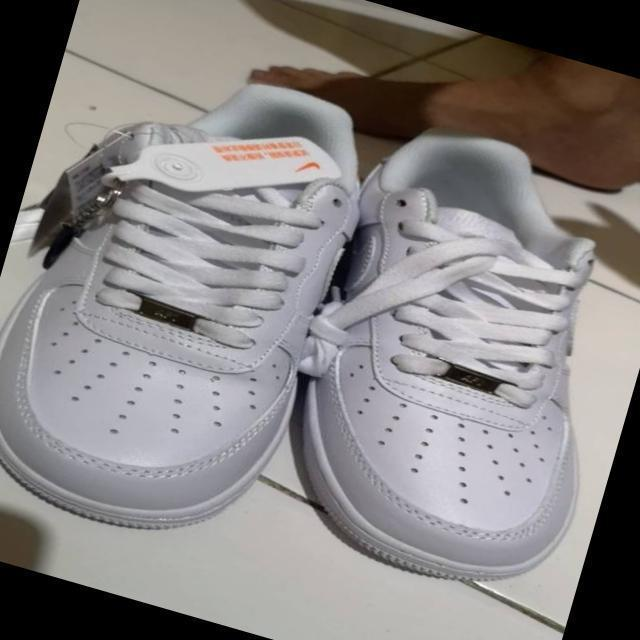nike original air force: (234, 91, 640, 613), (0, 25, 379, 568)
